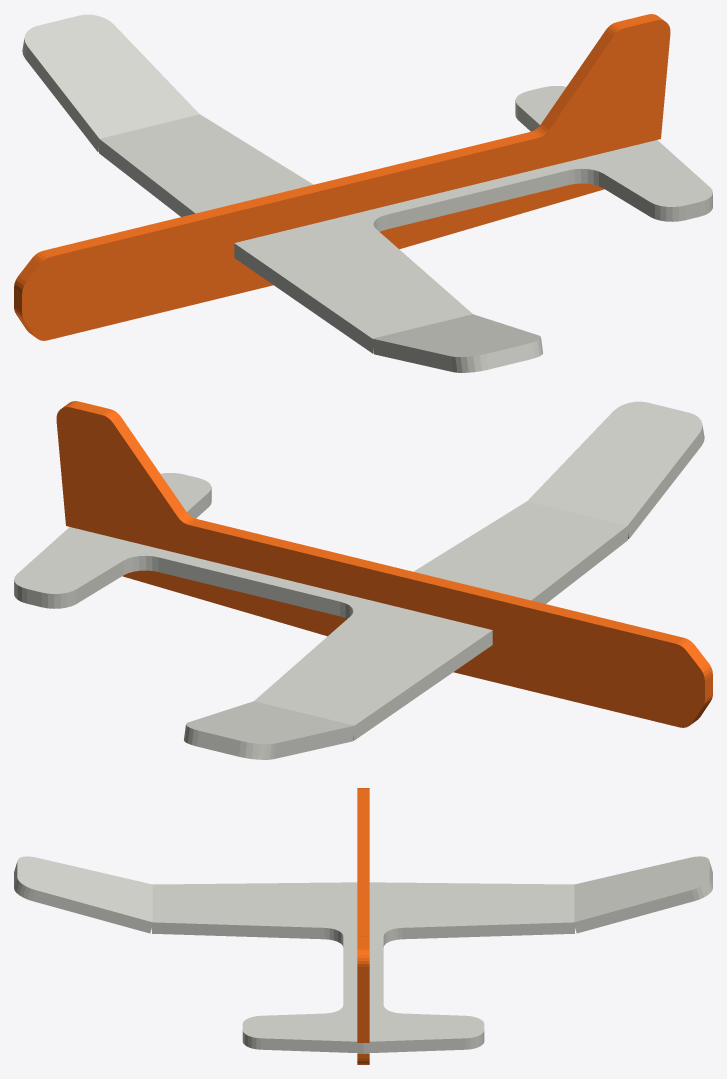
3 views of the same model, one above another, from view 1: azimuth 30°, elevation 25°; view 2: azimuth 150°, elevation 25°; view 3: azimuth 270°, elevation 25° (orthographic). The views are drawn at different scales.
Visible parts, largest first — view 1: H, V; view 2: H, V; view 3: H, V.
Boxes of the visible parts, left/top/right/bottom form: H: left=22, top=14, right=712, bottom=372; V: left=14, top=14, right=670, bottom=340; H: left=14, top=401, right=704, bottom=759; V: left=56, top=401, right=712, bottom=727; H: left=14, top=856, right=712, bottom=1053; V: left=357, top=788, right=369, bottom=1064.
Size of the model in its own units: 0.2295 by 0.058 by 0.2775.
